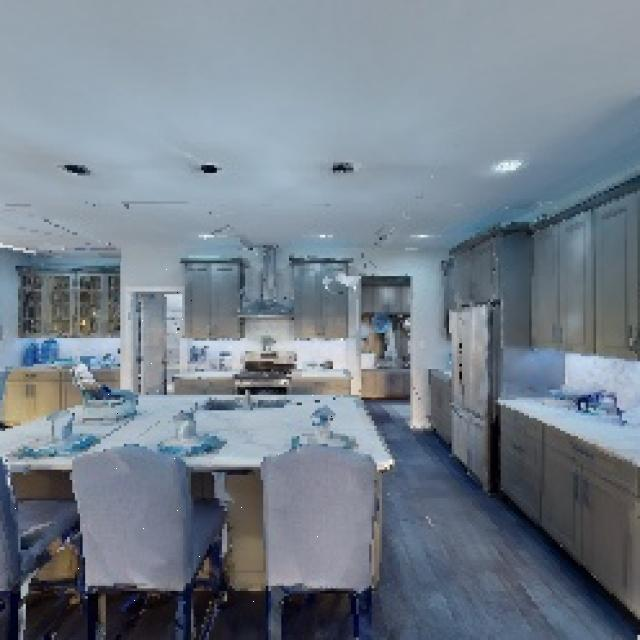chair: (60, 431, 242, 640), (240, 438, 407, 640), (0, 438, 82, 640)
door-frame: (116, 262, 200, 410)
table: (0, 377, 408, 583)
